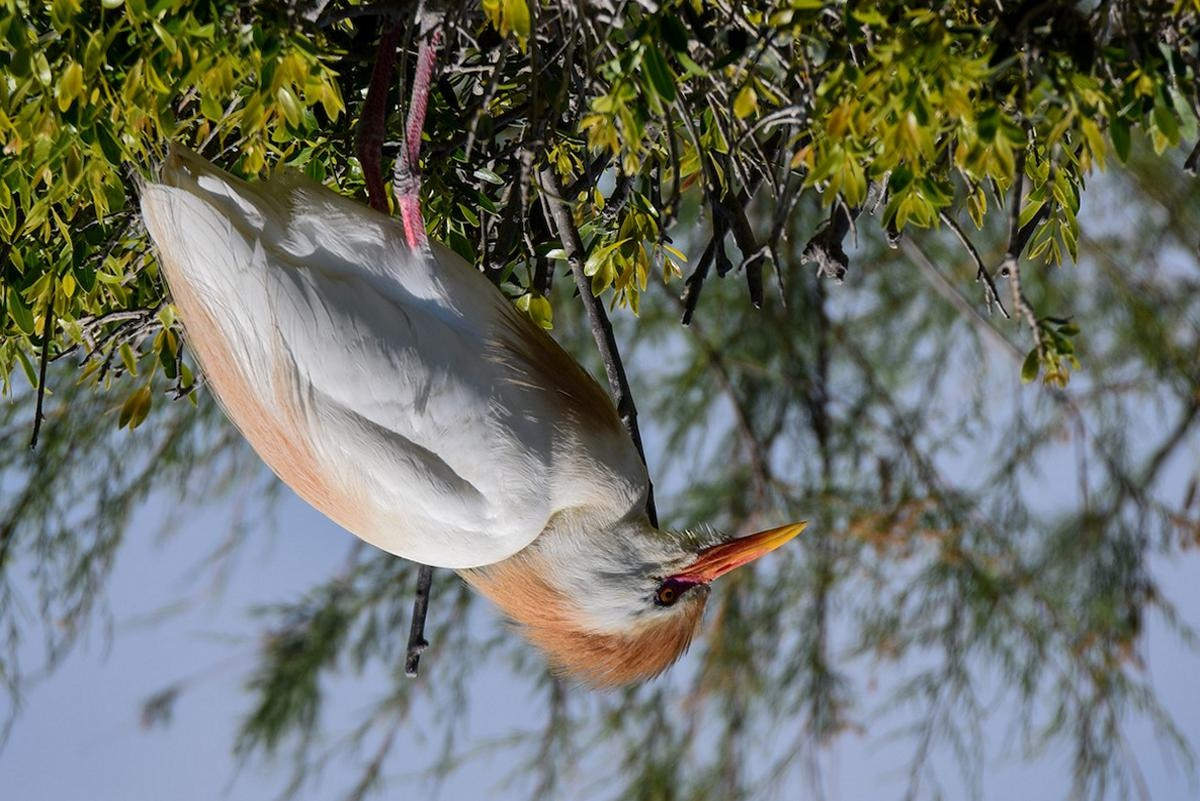egret: (134, 54, 819, 682)
